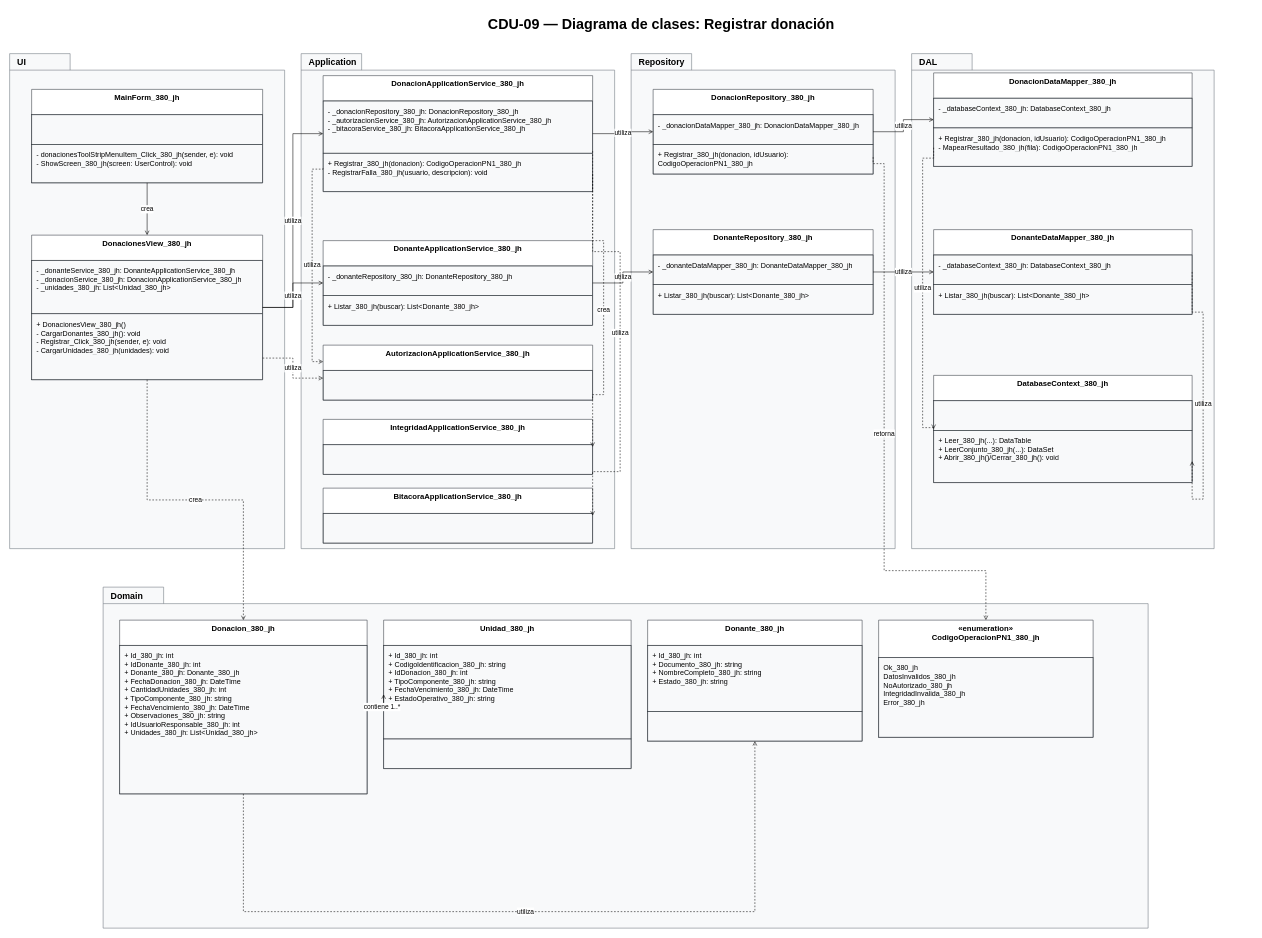
This 1262x938 diagram has some shape labels left out. The shapes that lost their labels are listed below. From the top down, each one's centre as x and y in pixels, then its label:
At point (147, 129): "- _autorizacionService_380_jh: AutorizacionApplicationService_380_jh".
At point (458, 385): "+ TienePermiso_380_jh(usuario, codigo): bool".
At point (1062, 415): "+ Conexion_380_jh: SqlConnection".
At point (458, 459): "+ Verificar_380_jh(): InformeIntegridad_380_jh".
At point (458, 528): "+ RegistrarEvento_380_jh(...): bool".
At point (754, 726): "+ ToString(): string".
At point (507, 753): "+ EstaClasificada_380_jh: bool".
